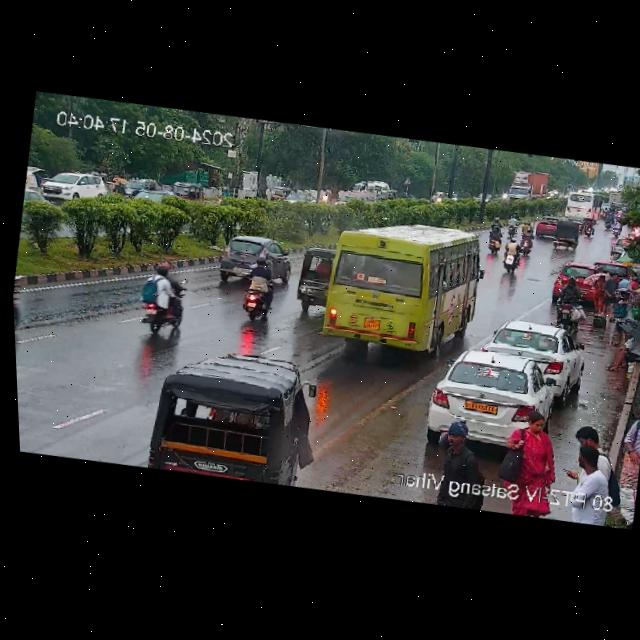bus: (311, 206, 488, 364), (559, 189, 606, 222)
car: (134, 342, 331, 494), (425, 340, 570, 444), (476, 314, 588, 385), (211, 229, 289, 286), (36, 162, 114, 209), (288, 244, 336, 311), (547, 261, 599, 305), (548, 218, 585, 252), (116, 171, 157, 200), (269, 187, 319, 210), (169, 176, 207, 204), (535, 213, 561, 239), (334, 193, 361, 212), (379, 188, 401, 204), (478, 191, 493, 203)
motorcycle: (134, 259, 192, 338), (238, 269, 278, 323), (487, 212, 523, 247), (495, 240, 526, 277), (510, 229, 537, 256), (578, 216, 599, 239), (609, 220, 623, 239), (602, 214, 614, 230), (615, 208, 624, 224)
person: (424, 420, 485, 509), (498, 409, 556, 491), (608, 406, 640, 528), (561, 448, 610, 524), (604, 317, 640, 376), (589, 271, 619, 322), (554, 298, 589, 333), (572, 421, 604, 452)
truck: (501, 167, 549, 205), (352, 177, 389, 199)
